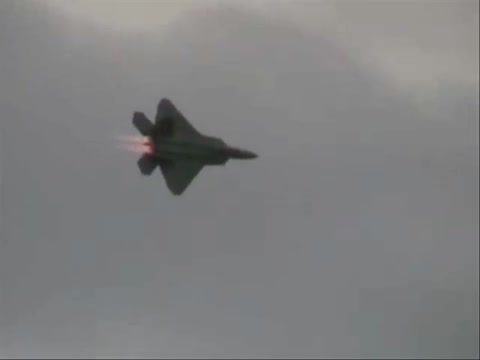aeroplane: (131, 99, 260, 199)
